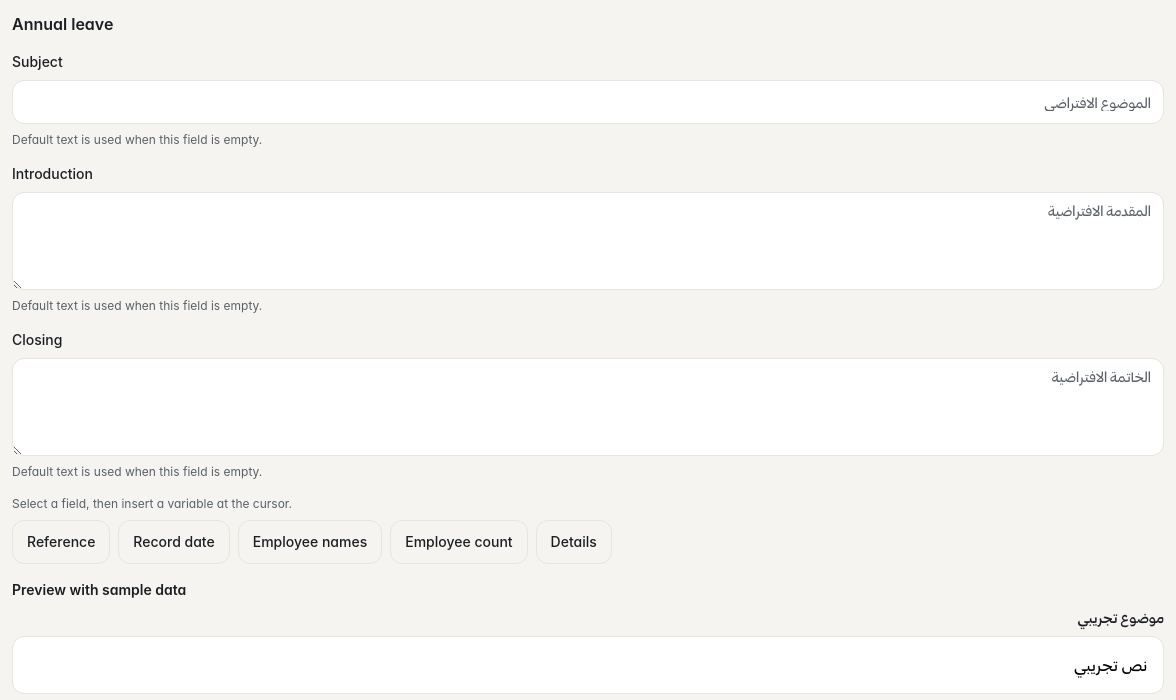
Test case: EmailDraftEditor › inserts family tokens into the focused field and previews unsaved values
The image size is (1176, 700).
Expected: the button titled "{ref}" is shown, x1=12 y1=520 x2=110 y2=564
Expected: the button titled "{date}" is shown, x1=118 y1=520 x2=230 y2=564
Click the button titled "{names}". click: (310, 542)
box: x1=238 y1=520 x2=382 y2=564
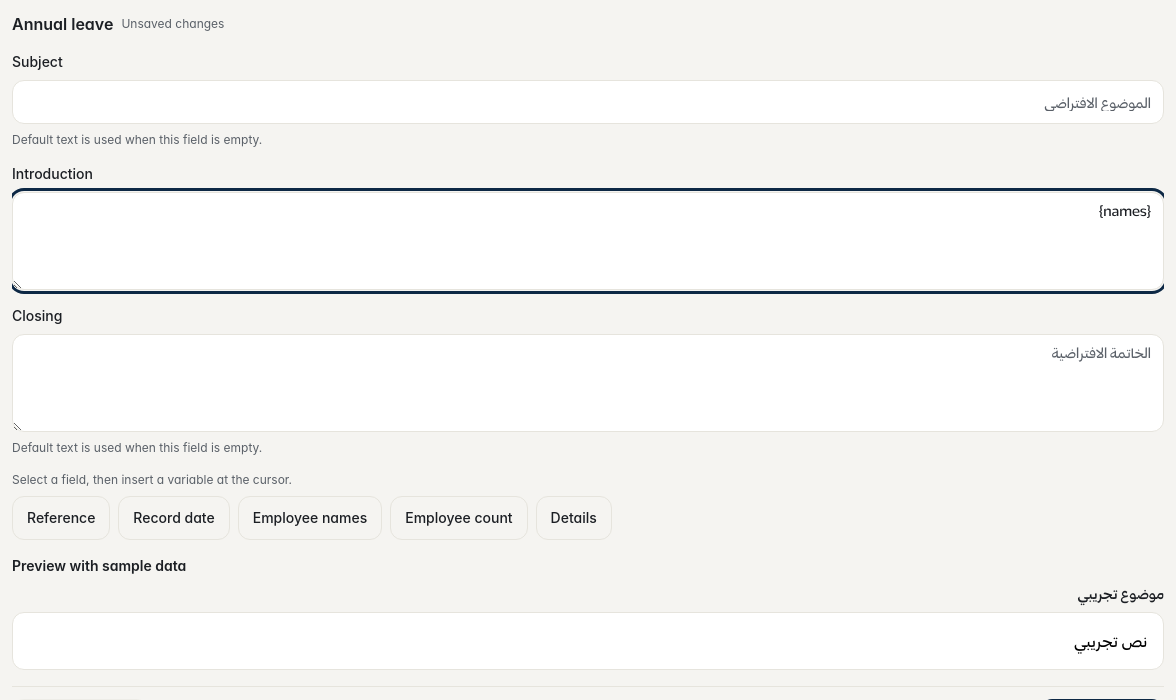
Result: the text box labelled "Introduction" holds "{names}" at x1=12 y1=192 x2=1164 y2=290
